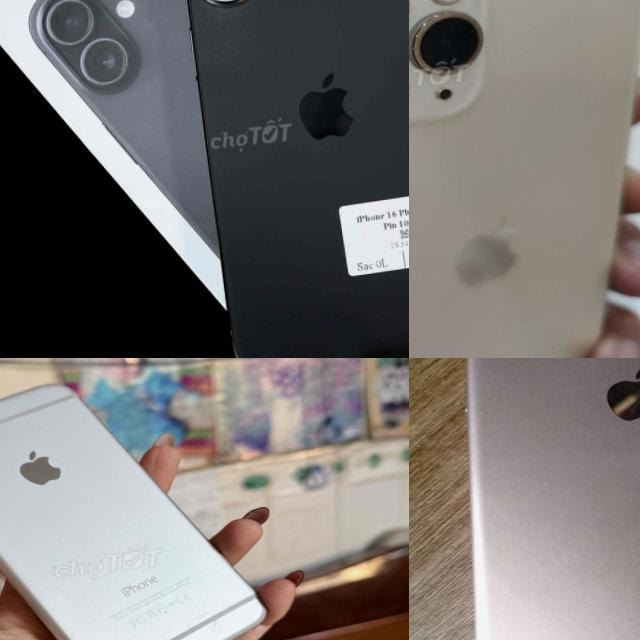scratch: (409, 0, 563, 114)
